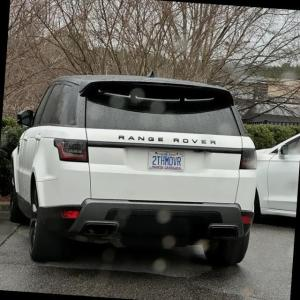Plate: (147, 149, 185, 172)
